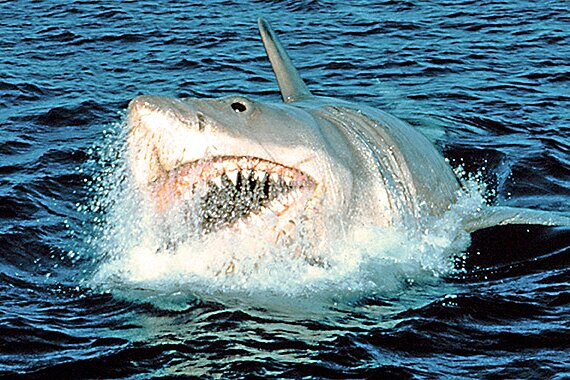shark: (107, 25, 505, 311)
